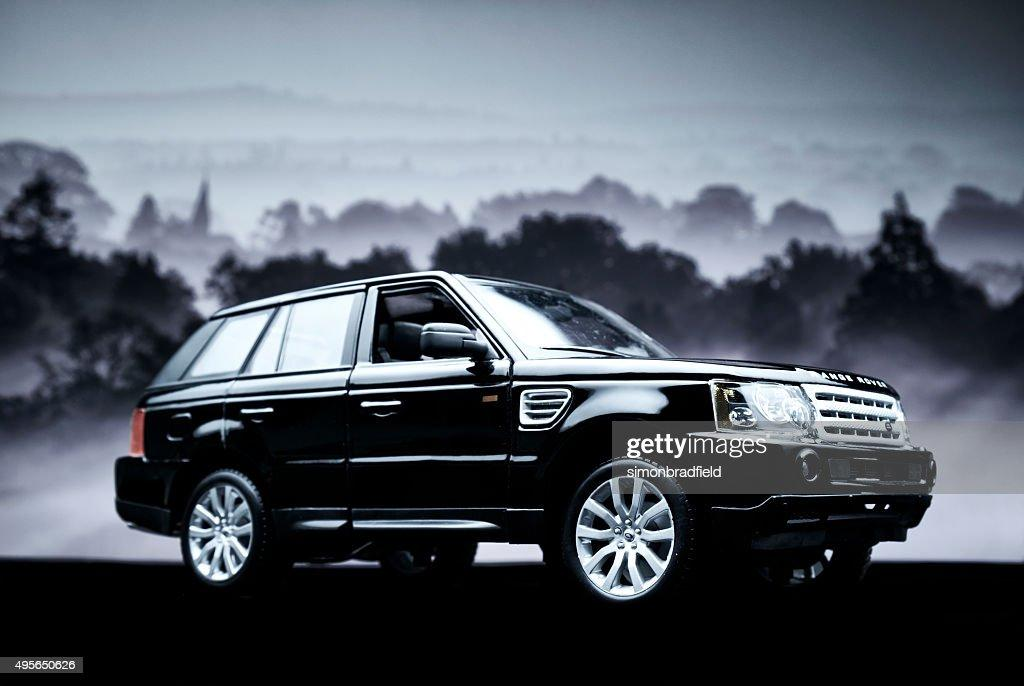range rover: (807, 368, 897, 393)
